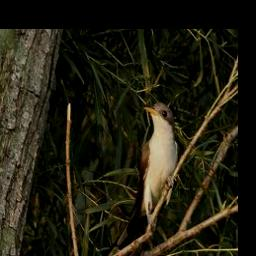Cuckoo: (103, 100, 181, 256)
